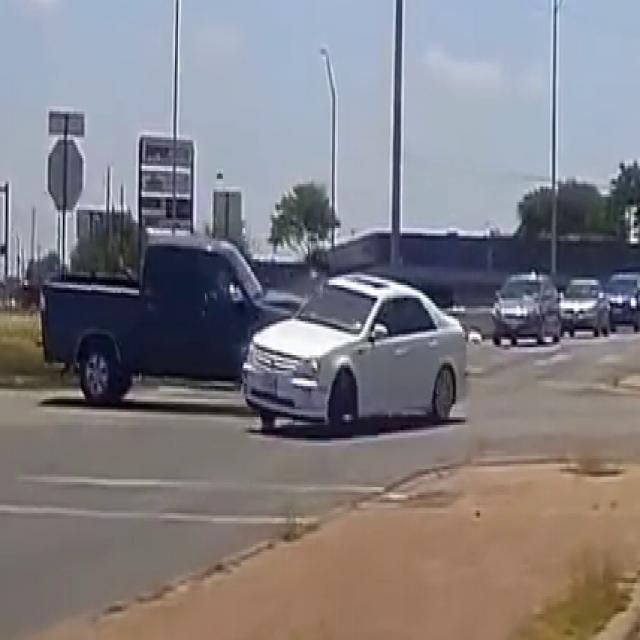accident: (130, 228, 446, 467)
